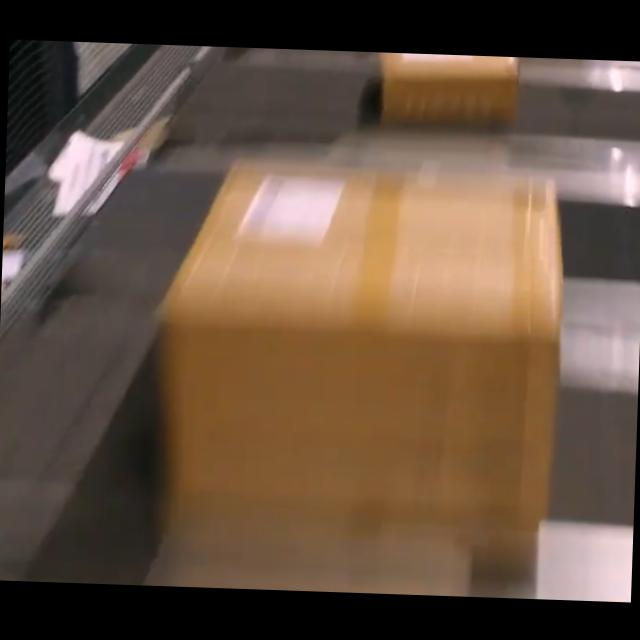box: (152, 164, 565, 559), (376, 51, 522, 130)
